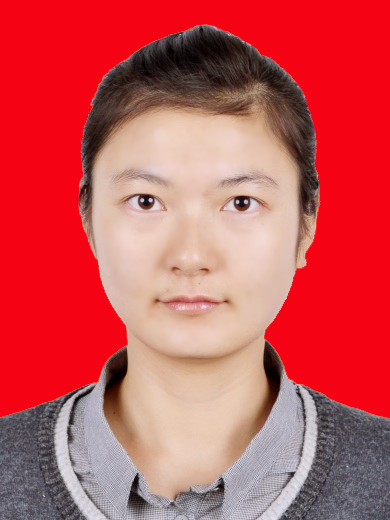unmask: (102, 109, 293, 338)
